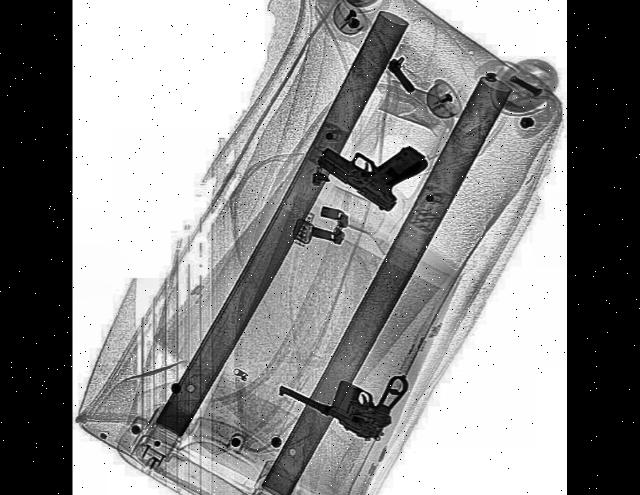Gun: (278, 322, 411, 454), (316, 94, 429, 225)
